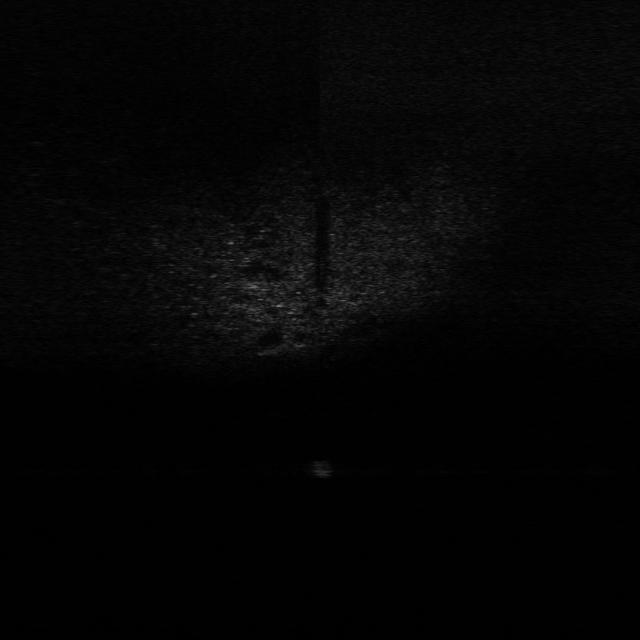cylinder: (312, 457, 339, 481)
